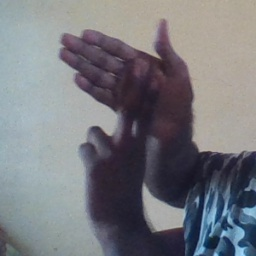N: (57, 15, 197, 184)
